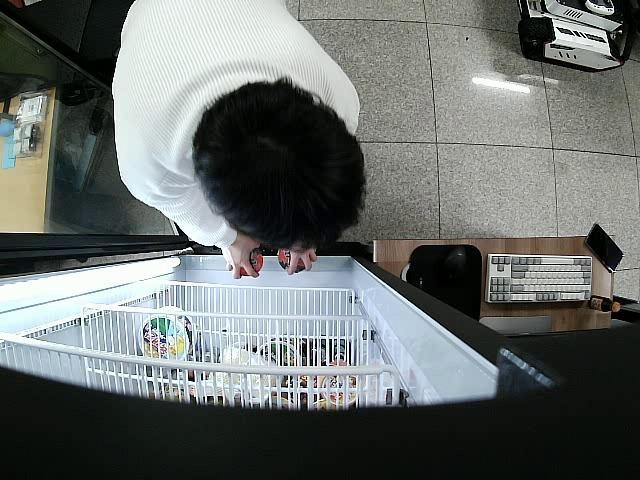02_shinRamen_S: (276, 248, 308, 276), (231, 248, 262, 276)
